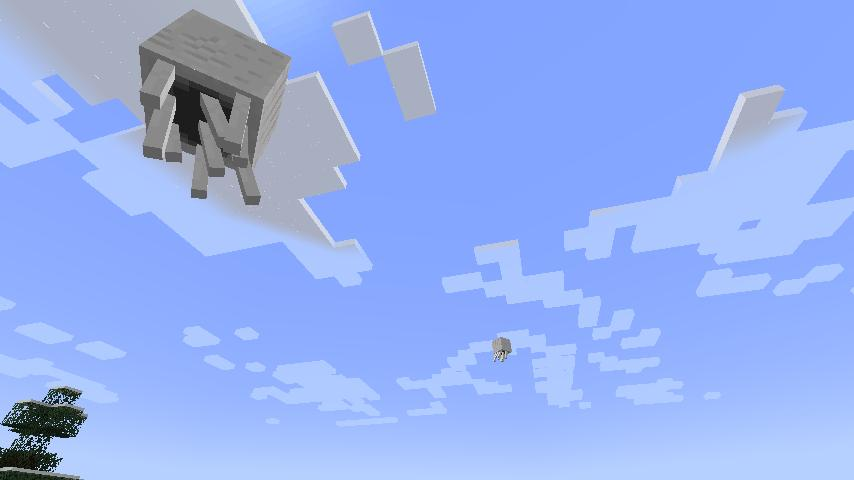ghast: (135, 7, 296, 204), (490, 335, 514, 362)
